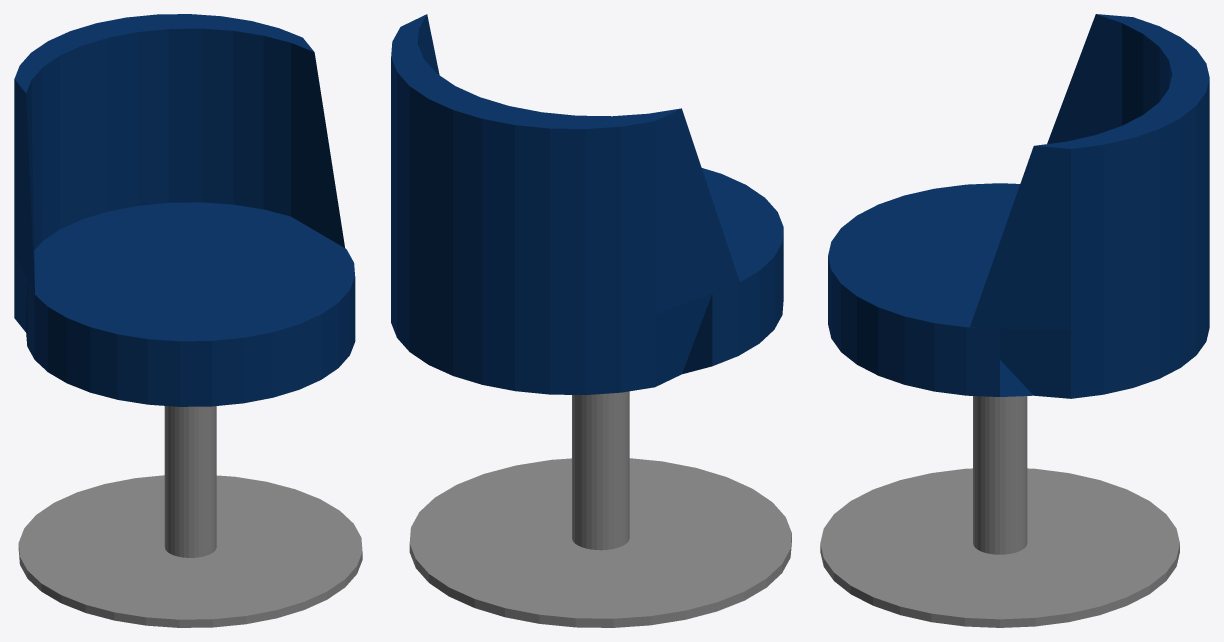
File: Chair.fbx
3 renders of one model, left to right at view 1: azimuth 30°, elevation 25°; view 2: azimuth 150°, elevation 25°; view 3: azimuth 270°, elevation 25°, orthographic. The views are drawn at different scales.
Parts seen in each view (by area): view 1: Cylinder; view 2: Cylinder; view 3: Cylinder.
Boxes of the visible parts, box(x1,y1,x2,y2) form: Cylinder: box(14, 14, 362, 627); Cylinder: box(391, 14, 791, 627); Cylinder: box(820, 14, 1209, 627).
Bounding box in the file's own units: 71.07 × 104 × 76.93.
1 material, 1 textured.
